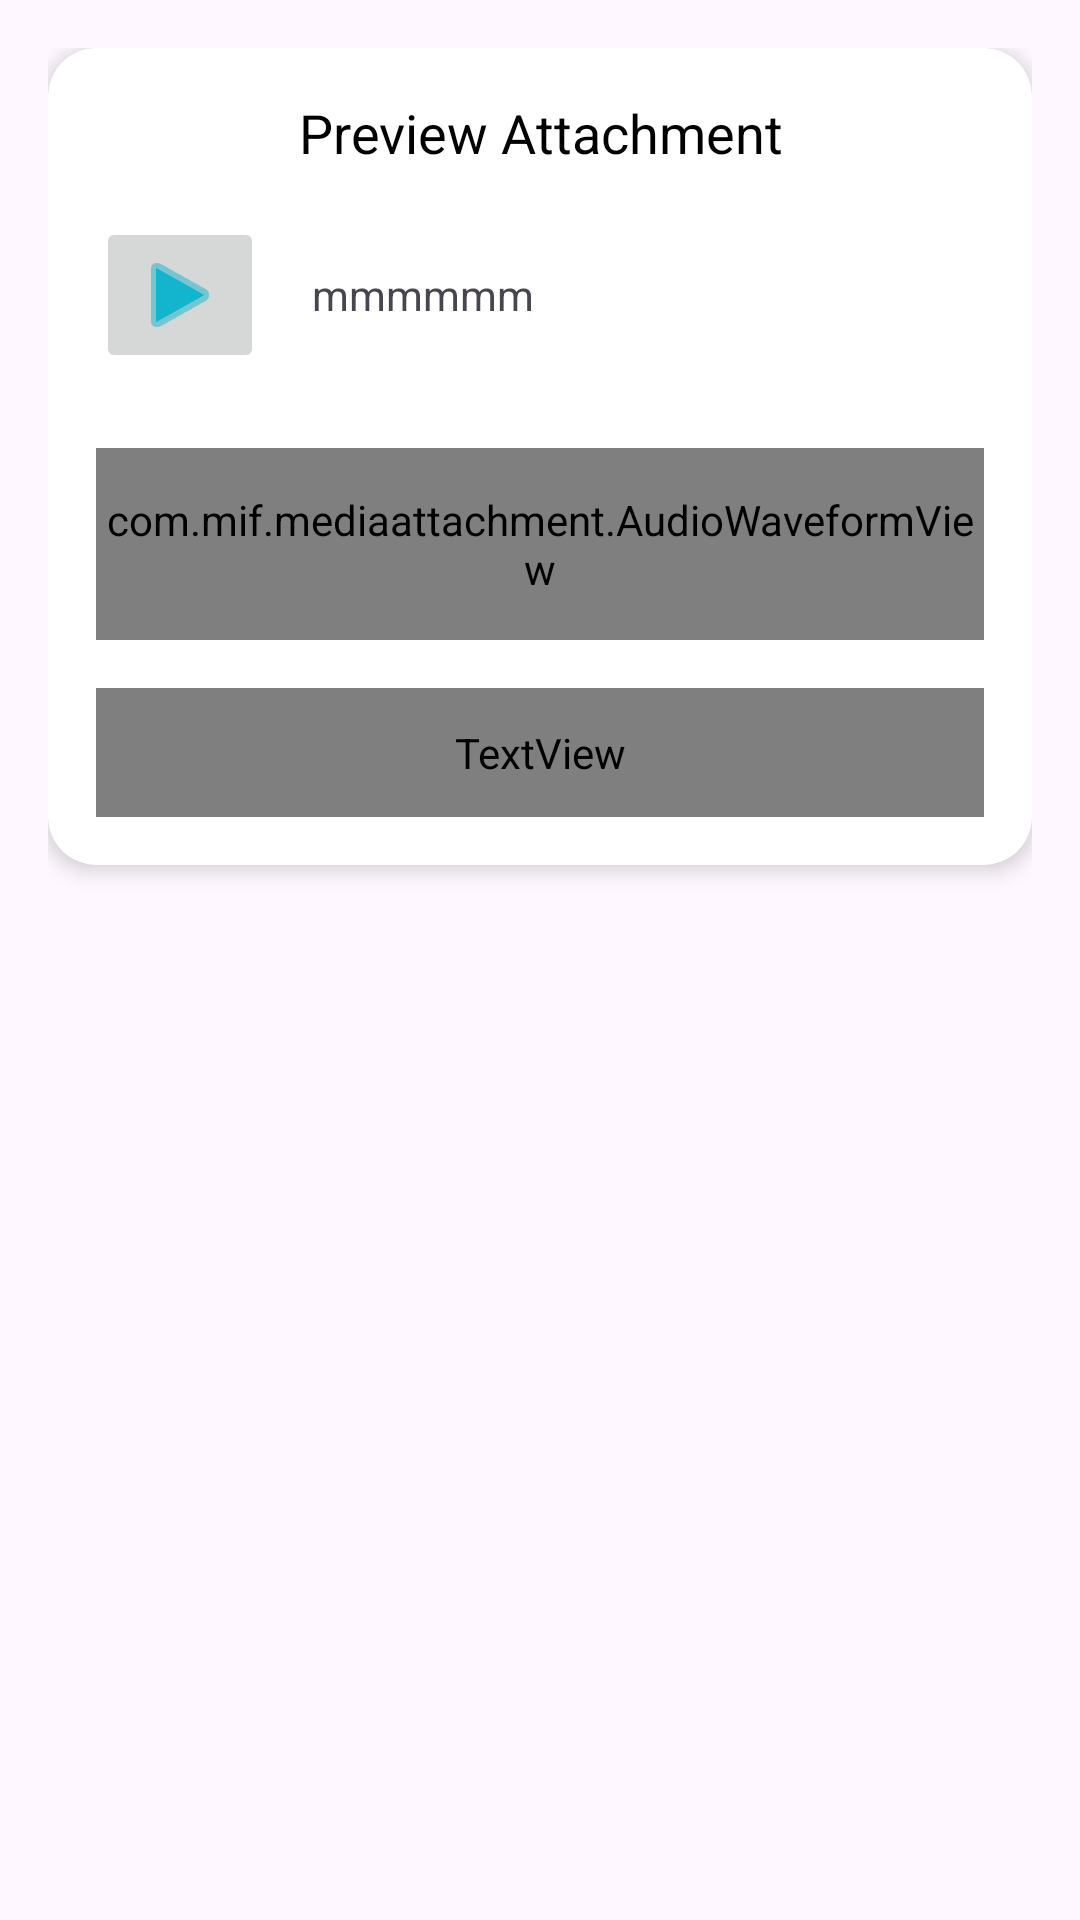

Named icons in this screenshot (1080*1920) and their bounding boxes, (x1, y1, x2, y2):
play: (108, 235, 252, 355)
